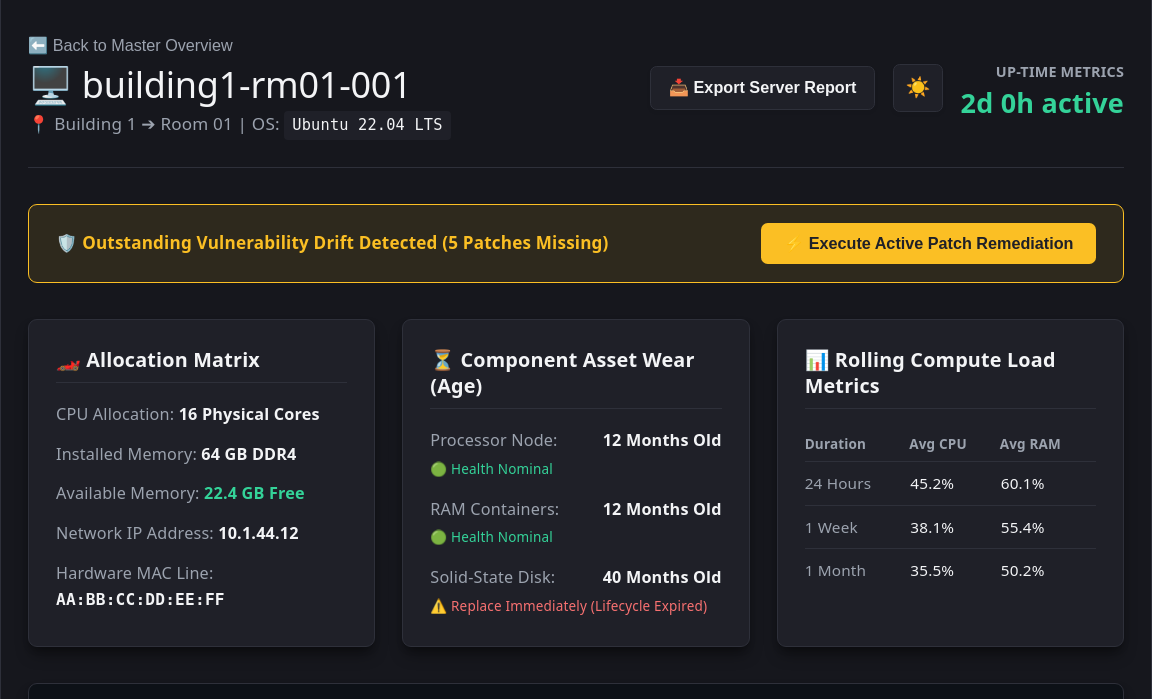
Scenario: ServerDetail Component Suite › executes the live patch remediation sequence and updates the state posture metrics cleanly
The width and height of the screenshot is (1152, 699).
Expected: the text "Outstanding Vulnerability Drift Detected (5 Patches Missing)" is shown, [56,230,609,256]
Click the button "⚡ Execute Active Patch Remediation" at (929, 243), box [762,223,1096,264]
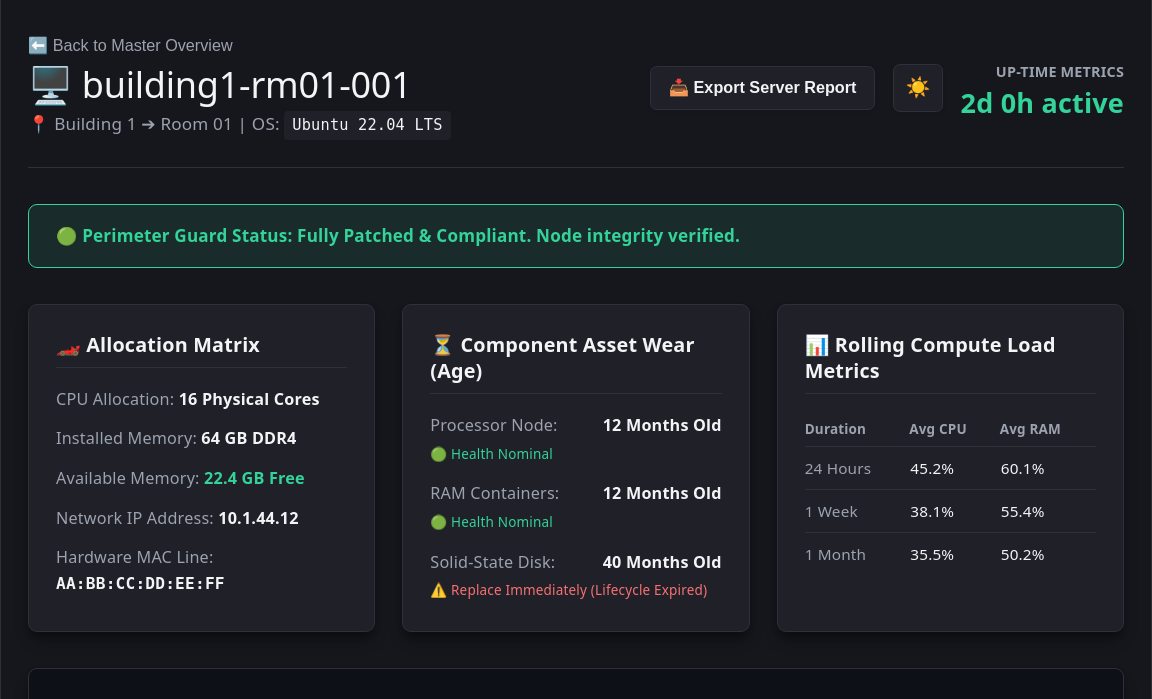
Now the text "Perimeter Guard Status: Fully Patched & Compliant" is shown, box [56,224,740,247]
Now the text "Outstanding Vulnerability Drift Detected" is gone
Now the button "⚡ Execute Active Patch Remediation" is gone
